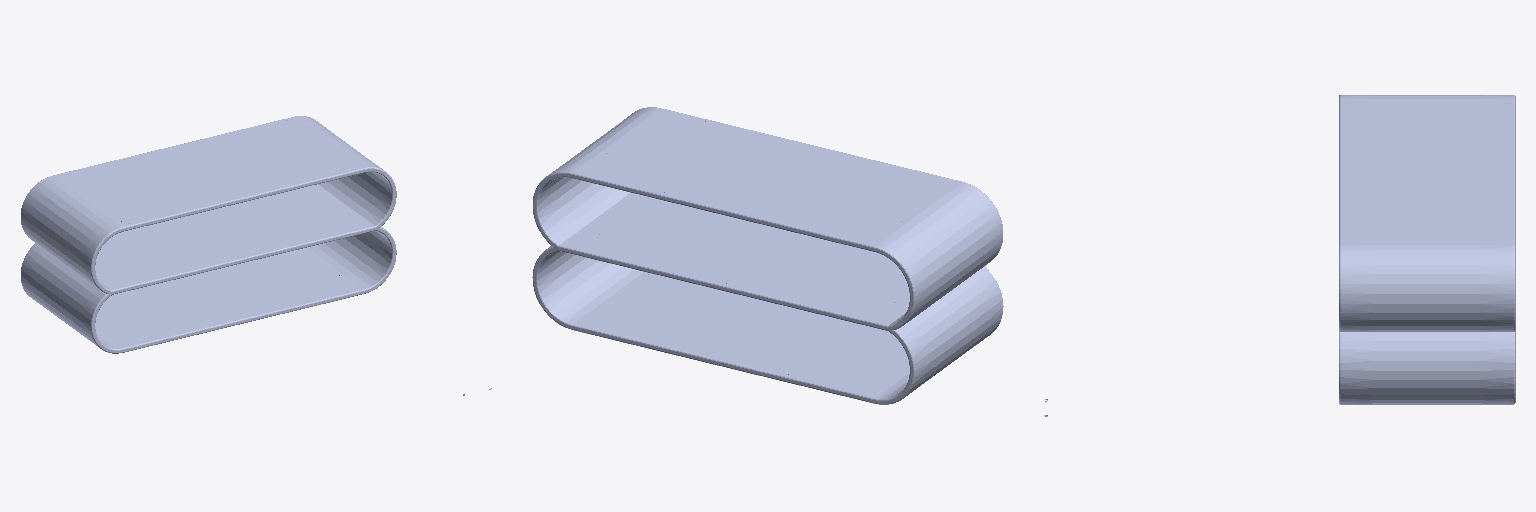
URDF robot description (coffee_table_3_level):
<robot
  name="coffee_table_3_level">
  <link
    name="coffee_table_3_level">
    <inertial>
      <origin
        xyz="2.8683E-17 -0.25 0.225"
        rpy="0 0 0" />
      <mass
        value="38.892" />
      <inertia
        ixx="2.04068346909526"
        ixy="-1.32064860651444E-15"
        ixz="-3.87896119337892E-15"
        iyy="7.42252441086027"
        iyz="-8.5749893158899E-16"
        izz="6.99451664669169" />
    </inertial>
    <visual>
      <origin
        xyz="0 0 0"
        rpy="0 0 0" />
      <geometry>
        <mesh
          filename="package://coffee_table_3_level/meshes/coffee_table_3_level.dae" />
      </geometry>
      <material
        name="">
        <color
          rgba="0.79216 0.81961 0.93333 1" />
      </material>
    </visual>
    <collision>
      <origin
        xyz="0 0 0"
        rpy="0 0 0" />
      <geometry>
        <mesh
          filename="package://coffee_table_3_level/meshes/coffee_table_3_level.dae" />
      </geometry>
    </collision>
  </link>
</robot>

--- Render facts (derived) ---
The picture shows the robot from 3 angles, left to right: view 1: azimuth 30°, elevation 25°; view 2: azimuth 150°, elevation 25°; view 3: azimuth 270°, elevation 25°; orthographic projection.
Robot: coffee_table_3_level — 1 links, 0 joints (none); root link coffee_table_3_level; default pose: all joints at 0.
Links seen in each view (by area): view 1: coffee_table_3_level; view 2: coffee_table_3_level; view 3: coffee_table_3_level.
Boxes of the visible links, x1,y1,x2,y2 form: coffee_table_3_level: (21,116,491,395); coffee_table_3_level: (532,107,1003,404); coffee_table_3_level: (1044,95,1515,416).
Bounding box of the posed robot: 1.24 × 1.33 × 0.5248 m (x, y, z).
Meshes: 1 distinct files referenced, 1 mesh visuals loaded (1 Collada DAE).